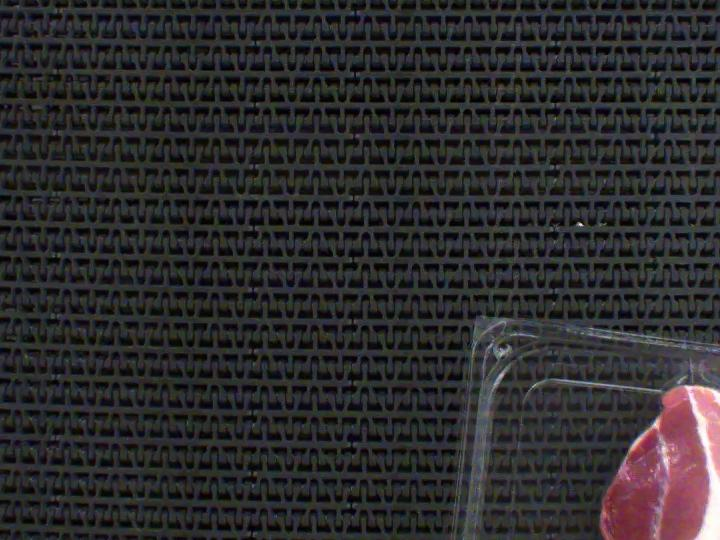packaging-error: (665, 345, 720, 399)
